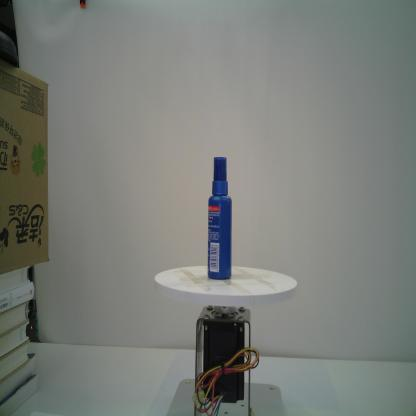Personal Hygiene: (206, 156, 233, 281)
